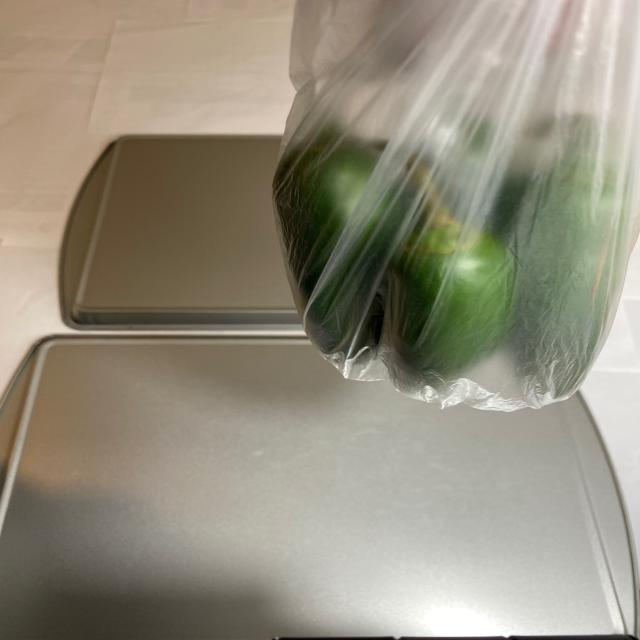chilli: (260, 78, 640, 405)
